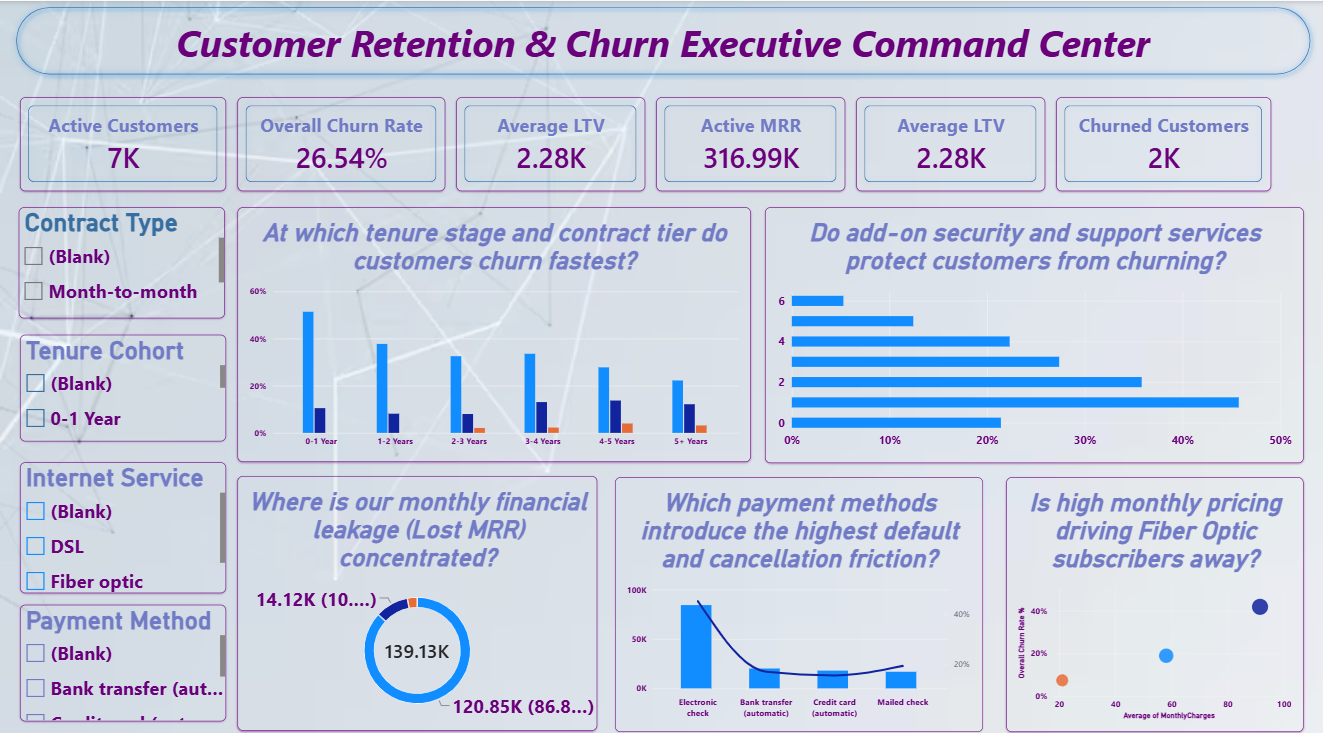

Layout of this report page (visuals, bound fields, positions):
{"tool":"powerbi","page":{"name":"Dashboard","canvas":[1920,1080],"ordinal":0},"visuals":[{"type":"shape","box":[14.4,0,1891.6,115.3],"z":0},{"type":"cardVisual","fields":{"Data":["Dim_Billing.// 1. Total Customer CountTotal Customers"]},"box":[28.8,140,298.5,135.8],"z":1000},{"type":"cardVisual","fields":{"Data":["Dim_Billing.Overall Churn Rate %"]},"box":[343.3,140,300.5,135.8],"z":2000},{"type":"cardVisual","fields":{"Data":["Dim_Billing.// 4. Active Monthly Recurring Revenue (Active MRR)Active MRR"]},"box":[949.7,140,273.8,135.8],"z":3000},{"type":"cardVisual","fields":{"Data":["Dim_Billing.// 6. Average Customer Lifetime Value (LTV)Average LTV"]},"box":[1239.5,140,273.8,135.8],"z":4000},{"type":"cardVisual","fields":{"Data":["Dim_Billing.// 6. Average Customer Lifetime Value (LTV)Average LTV"]},"box":[659.9,140,273.8,135.8],"z":5000},{"type":"cardVisual","fields":{"Data":["Dim_Billing.// 2. Churned Customer CountChurned Customers"]},"box":[1529.3,140,310.8,135.8],"z":6000},{"type":"slicer","fields":{"Values":["Dim_Billing.Contract"]},"box":[26.8,298.5,298.5,160.5],"z":7000},{"type":"slicer","fields":{"Values":["Fact_Churn_Retention.Tenure_Cohort"]},"box":[28.8,483.7,298.5,154.4],"z":8000},{"type":"slicer","fields":{"Values":["Dim_Services.InternetService"]},"box":[28.8,666.9,298.5,189.4],"z":9000},{"type":"slicer","fields":{"Values":["Dim_Billing.PaymentMethod"]},"box":[28.8,874.8,298.5,168.8],"z":10000},{"type":"clusteredColumnChart","title":"At which tenure stage and contract tier do customers churn fastest?","fields":{"Category":["Fact_Churn_Retention.Tenure_Cohort"],"Series":["Dim_Billing.Contract"],"Y":["Dim_Billing.Overall Churn Rate %"]},"box":[343.7,298.5,743.1,368.4],"z":11000},{"type":"donutChart","title":"Where is our monthly financial leakage (Lost MRR) concentrated?","fields":{"Category":["Dim_Billing.Contract"],"Y":["Dim_Billing.// 5. Lost Monthly Recurring Revenue (Lost MRR)Lost MRR"]},"box":[343.7,687.5,520.8,368.4],"z":12000},{"type":"clusteredBarChart","title":"Do add-on security and support services protect customers from churning?","fields":{"Category":["Dim_Services.Total_AddOn_Services"],"Y":["Dim_Billing.Overall Churn Rate %"]},"box":[1107.4,298.5,780.1,370.5],"z":13000},{"type":"lineStackedColumnComboChart","title":"Which payment methods introduce the highest default and cancellation friction?","fields":{"Category":["Dim_Billing.PaymentMethod"],"Y":["Dim_Billing.// 5. Lost Monthly Recurring Revenue (Lost MRR)Lost MRR"],"Y2":["Dim_Billing.Overall Churn Rate %"]},"box":[891.3,689.5,533.1,368.4],"z":14000},{"type":"scatterChart","title":"Is high monthly pricing driving Fiber Optic subscribers away?","fields":{"Series":["Dim_Services.InternetService"],"Size":["Dim_Billing.// 1. Total Customer CountTotal Customers"],"X":["Avg(Fact_Churn_Retention.MonthlyCharges)"],"Y":["Dim_Billing.Overall Churn Rate %"]},"box":[1457.3,689.5,430.2,368.4],"z":14001}]}

Visuals, with their boxes in screenshot pixels (x1, y1, x2, y2), scaled from the page's 1920x1080 canvas onto the 1323x733 screenshot:
shape: 10/0/1313/78
cardVisual - Dim_Billing.// 1. Total Customer CountTotal Customers: 20/95/226/187
cardVisual - Dim_Billing.Overall Churn Rate %: 237/95/444/187
cardVisual - Dim_Billing.// 4. Active Monthly Recurring Revenue (Active MRR)Active MRR: 654/95/843/187
cardVisual - Dim_Billing.// 6. Average Customer Lifetime Value (LTV)Average LTV: 854/95/1043/187
cardVisual - Dim_Billing.// 6. Average Customer Lifetime Value (LTV)Average LTV: 455/95/643/187
cardVisual - Dim_Billing.// 2. Churned Customer CountChurned Customers: 1054/95/1268/187
slicer - Dim_Billing.Contract: 18/203/224/312
slicer - Fact_Churn_Retention.Tenure_Cohort: 20/328/226/433
slicer - Dim_Services.InternetService: 20/453/226/581
slicer - Dim_Billing.PaymentMethod: 20/594/226/708
"At which tenure stage and contract tier do customers churn fastest?" clusteredColumnChart: 237/203/749/453
"Where is our monthly financial leakage (Lost MRR) concentrated?" donutChart: 237/467/596/717
"Do add-on security and support services protect customers from churning?" clusteredBarChart: 763/203/1301/454
"Which payment methods introduce the highest default and cancellation friction?" lineStackedColumnComboChart: 614/468/982/718
"Is high monthly pricing driving Fiber Optic subscribers away?" scatterChart: 1004/468/1301/718
